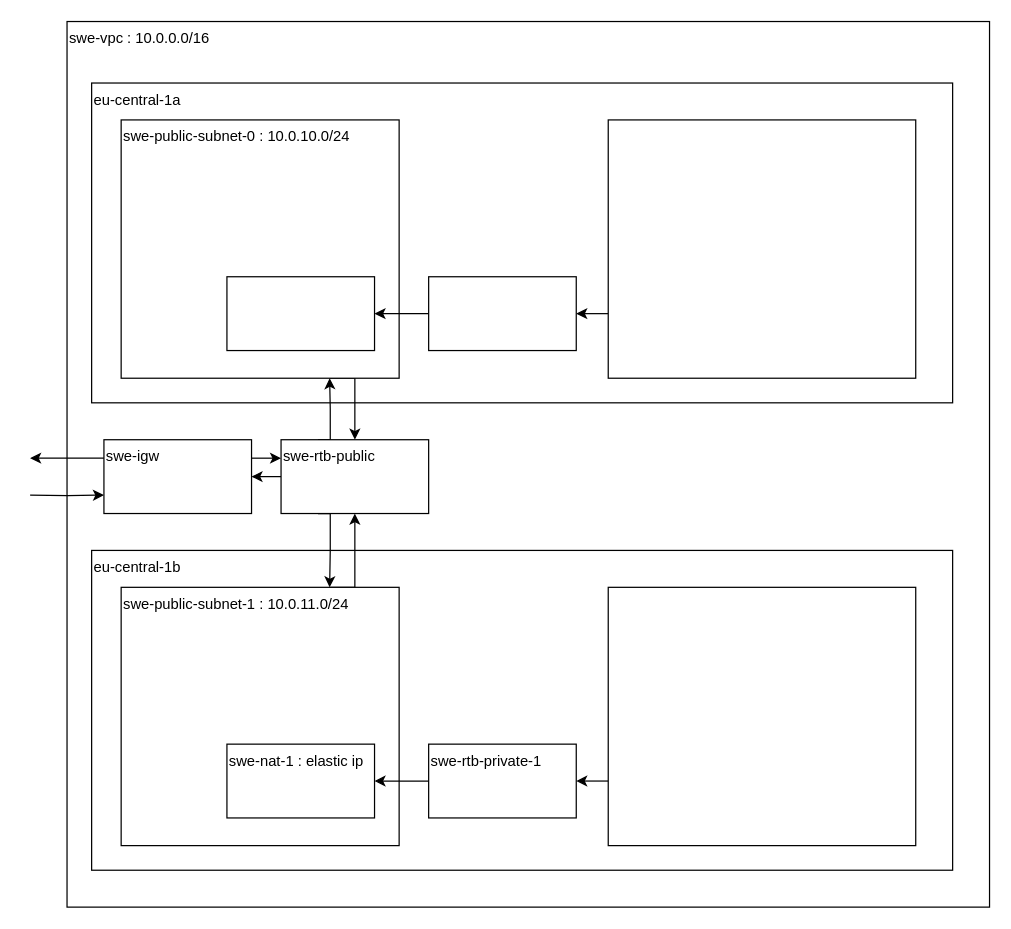
Some shapes in this 1011 by 929 pixel diagram are drawn without their labels. Each missing label, with the centre of its shape:
"subnet-private-subnet-0 : 10.0.0.0/24" goes at pixel 761 248.
"subnet-private-subnet-1 : 10.0.1.0/24" goes at pixel 761 716.
"swe-nat-0 : elastic ip" goes at pixel 300 313.
"swe-rtb-private-0" goes at pixel 501 313.
